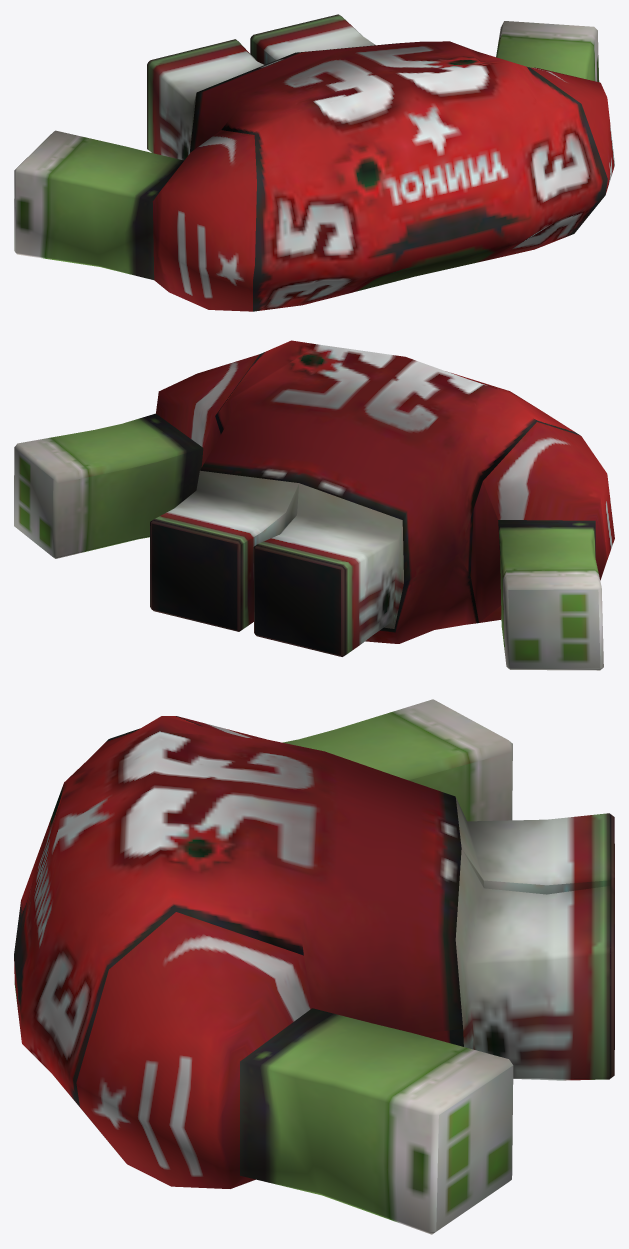
The model's file is HaoKe_G_02_High_97d8f004__HaoKe_G_02_95172a16_c1f257.obj.
3 renders of one model, top to bottom at view 1: azimuth 30°, elevation 25°; view 2: azimuth 150°, elevation 25°; view 3: azimuth 270°, elevation 25°, orthographic. The views are drawn at different scales.
Size of the model in its own units: 3.75 by 1.29 by 2.29.
1 material, 1 textured.
